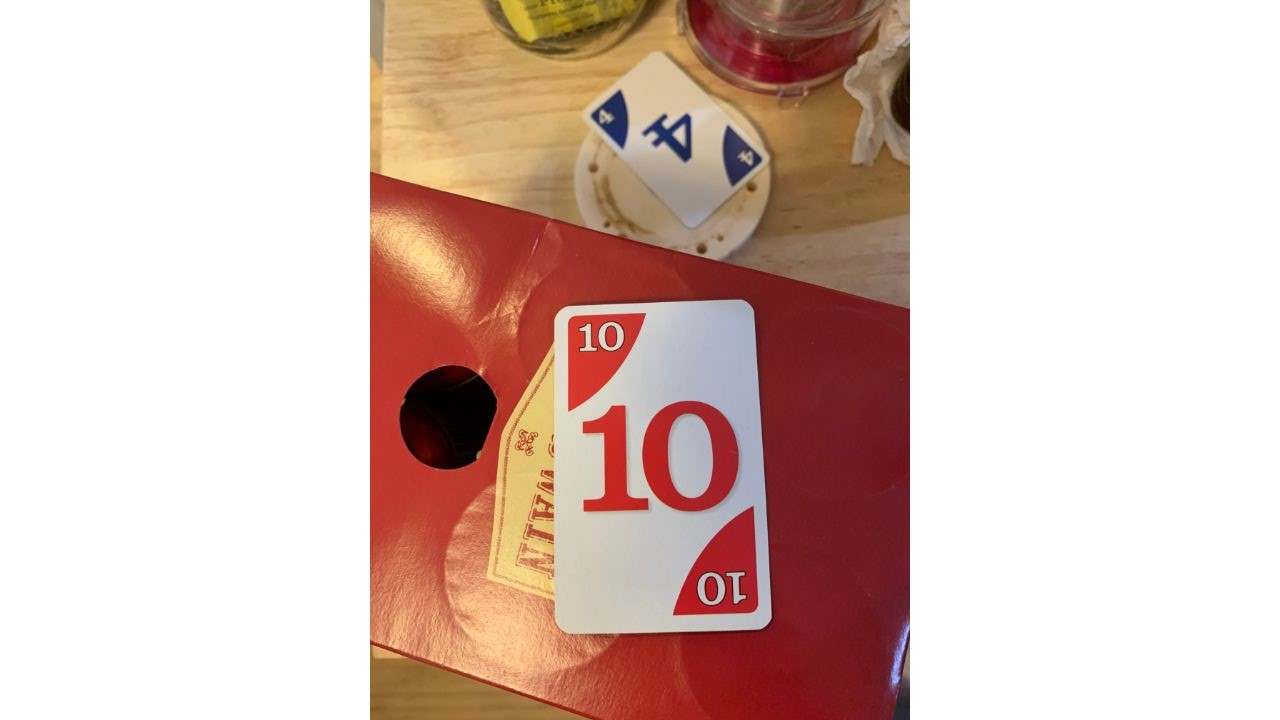ten: (548, 291, 778, 637)
